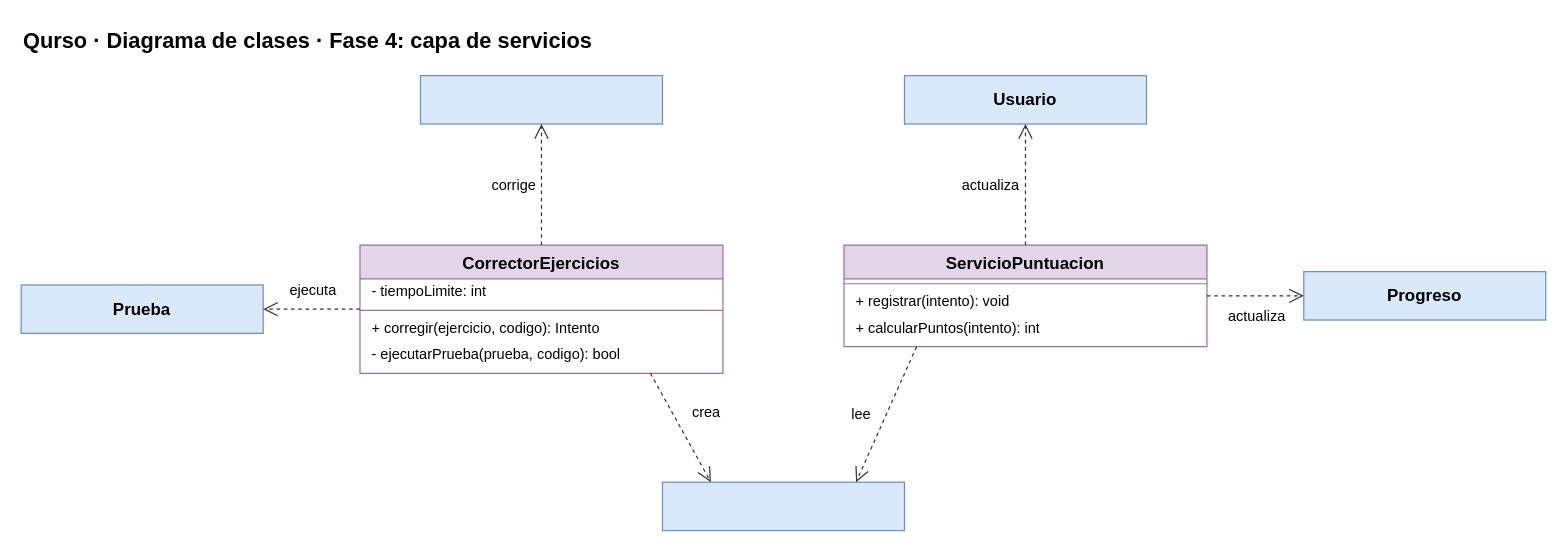
Image size: 1567x552. Some labels were removed from this diagram. The centre of each missing label's shape, as x and y in pixels:
"Ejercicio" goes at point (540, 99).
"Intento" goes at point (782, 506).
